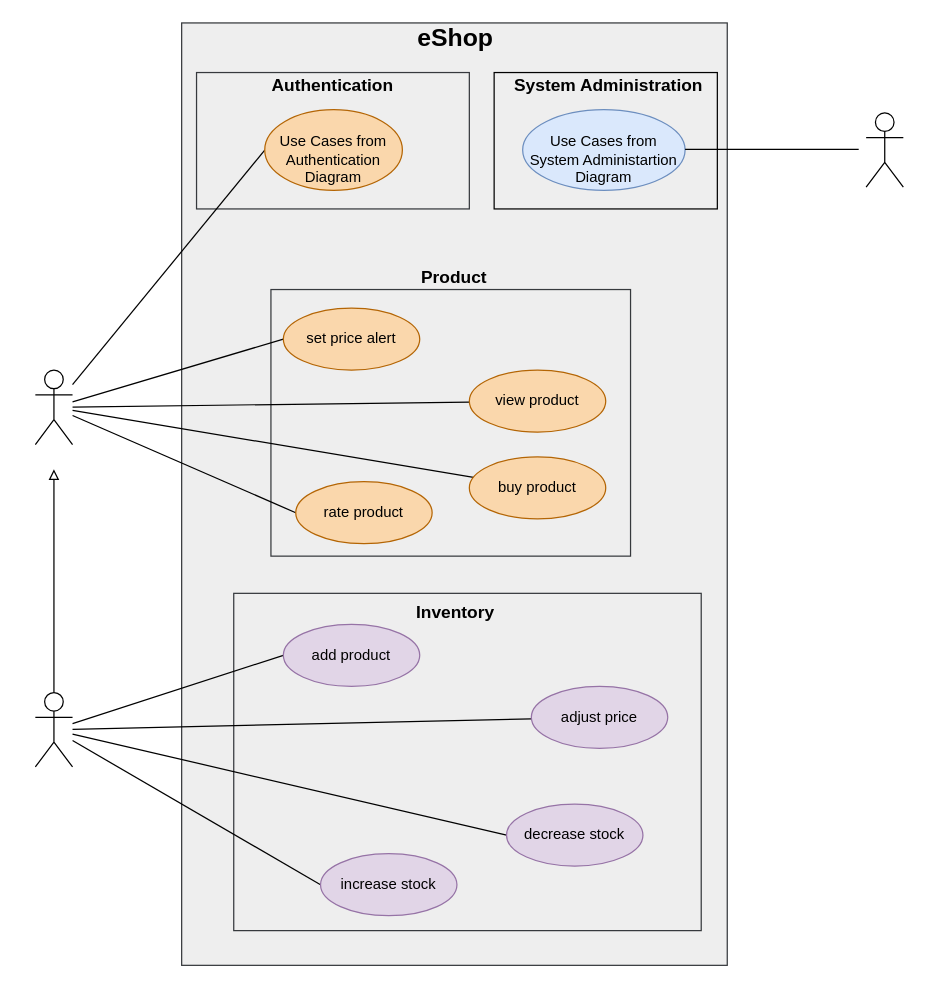
This 950x987 diagram has some shape labels left out. Here are the shapes that lost their labels. From the top down, the centre of each, then its label:
At (x=884, y=149): "Administrator".
At (x=53, y=407): "Customer".
At (x=53, y=729): "Vendor".
